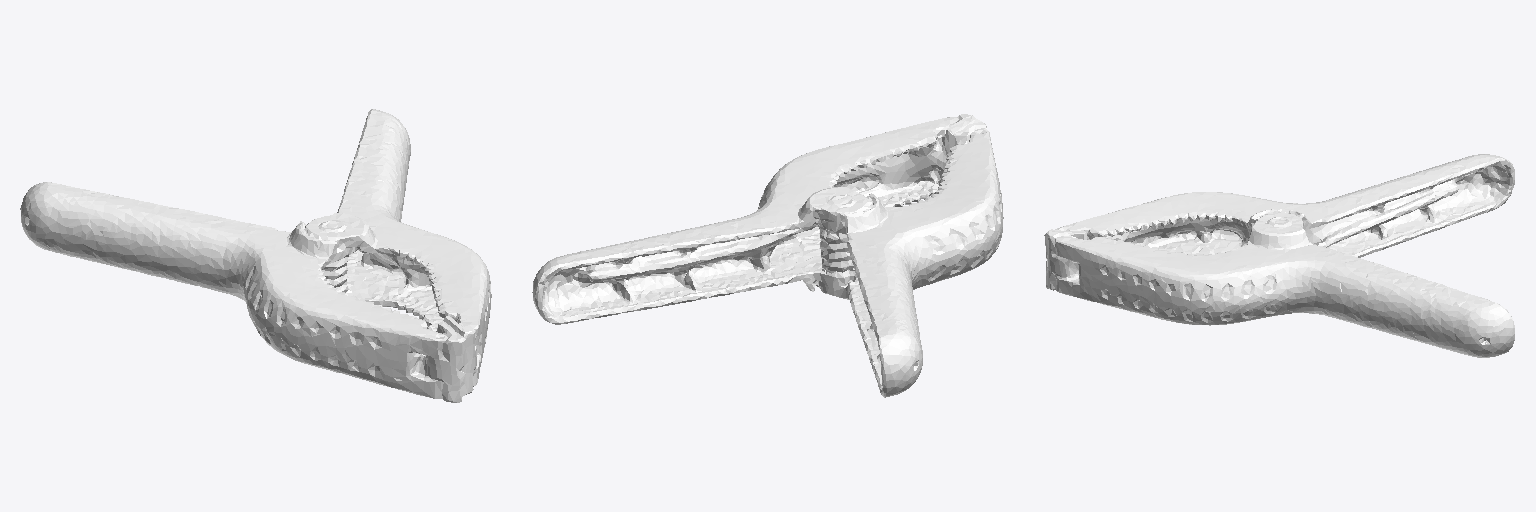
URDF robot description (extra_large_clamp):
<robot name="extra_large_clamp">
    <link name="base_link">
        <visual>
            <origin xyz="0.0 -0.0 -0.0" rpy="0.0 0.0 0.0" />
            <geometry>
                <mesh filename="extra_large_clamp/textured.obj" scale="1 1 1" />
            </geometry>
            <material name="texture">
                <color rgba="1.0 1.0 1.0 1.0" />
            </material>
        </visual>
        <collision>
            <origin xyz="0.0 -0.0 -0.0" rpy="0.0 0.0 0.0" />
            <geometry>
                <mesh filename="extra_large_clamp/textured_coacd_0.stl" scale="1 1 1" />
            </geometry>
        </collision>
        <collision>
            <origin xyz="0.0 -0.0 -0.0" rpy="0.0 0.0 0.0" />
            <geometry>
                <mesh filename="extra_large_clamp/textured_coacd_1.stl" scale="1 1 1" />
            </geometry>
        </collision>
        <collision>
            <origin xyz="0.0 -0.0 -0.0" rpy="0.0 0.0 0.0" />
            <geometry>
                <mesh filename="extra_large_clamp/textured_coacd_2.stl" scale="1 1 1" />
            </geometry>
        </collision>
        <collision>
            <origin xyz="0.0 -0.0 -0.0" rpy="0.0 0.0 0.0" />
            <geometry>
                <mesh filename="extra_large_clamp/textured_coacd_3.stl" scale="1 1 1" />
            </geometry>
        </collision>
        <collision>
            <origin xyz="0.0 -0.0 -0.0" rpy="0.0 0.0 0.0" />
            <geometry>
                <mesh filename="extra_large_clamp/textured_coacd_4.stl" scale="1 1 1" />
            </geometry>
        </collision>
        <inertial>
            <mass value="0.202" />
            <inertia ixx="1e-3" ixy="0.0" ixz="0.0" iyy="1e-3" iyz="0.0" izz="1e-3" />
        </inertial>
    </link>
</robot>

--- Render facts (derived) ---
Views: 3 orthographic renders of the robot side by side, from view 1: azimuth 30°, elevation 25°; view 2: azimuth 150°, elevation 25°; view 3: azimuth 270°, elevation 25°.
Model extra_large_clamp with 1 links and 0 joints (none), rooted at base_link, posed all joints at 0.
Visible links, largest first — view 1: base_link; view 2: base_link; view 3: base_link.
Boxes of the visible links, x1=… form: base_link: x1=20, y1=109, x2=491, y2=402; base_link: x1=532, y1=114, x2=1003, y2=397; base_link: x1=1044, y1=154, x2=1514, y2=357.
Bounding box of the posed robot: 0.1652 × 0.2023 × 0.0362 m (x, y, z).
Meshes: 1 distinct files referenced, 1 mesh visuals loaded (1 OBJ).